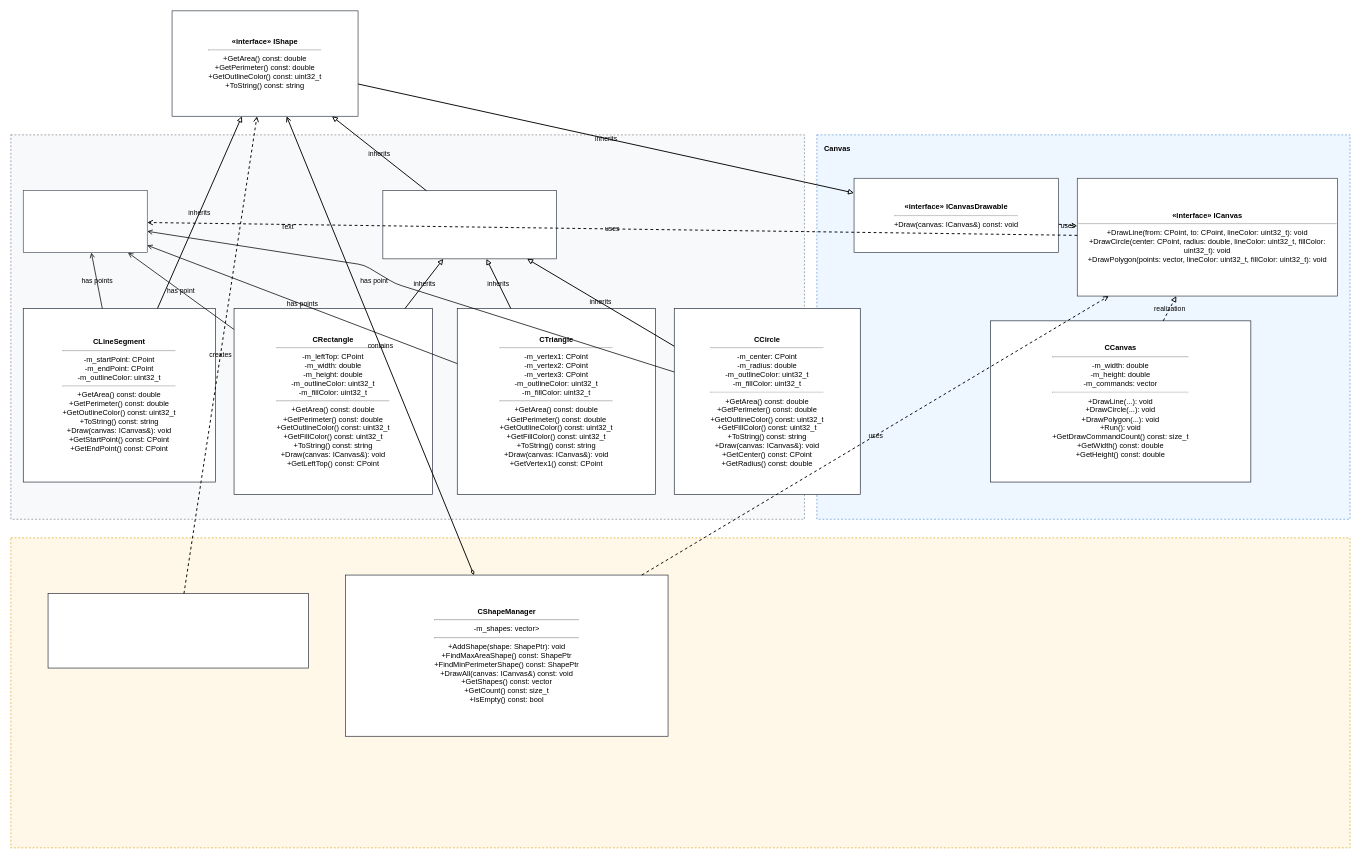
The diagram is 1361 pixels wide and 859 high, and some of its shapes have lost their labels. Here are the shapes that lost their labels. From the top down, the box of each, then its label:
(23, 190, 147, 253): CPoint +x: double +y: double
(382, 190, 556, 259): «interface» ISolidShape +GetFillColor() const: uint32_t
(10, 134, 804, 519): Shapes
(47, 593, 308, 668): CShapeFactory +CreateShape(description: string) const: shared_ptr
(10, 537, 1350, 848): App
